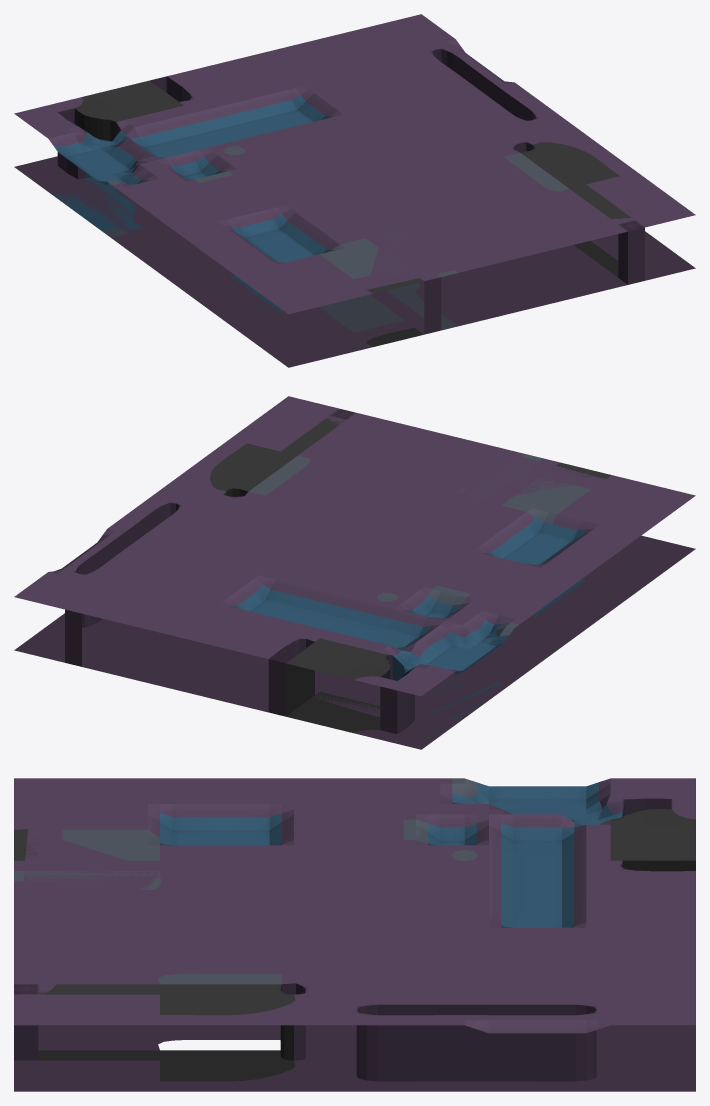
The model's file is delbld-hull-573.glb.
3 views of the same model, one above another, from view 1: azimuth 30°, elevation 25°; view 2: azimuth 150°, elevation 25°; view 3: azimuth 270°, elevation 25° (orthographic). The views are drawn at different scales.
Parts seen in each view (by area): view 1: delbld-hull-573; view 2: delbld-hull-573; view 3: delbld-hull-573.
Part boxes in pixels (left/top/right/bottom): delbld-hull-573: left=14, top=14, right=695, bottom=367; delbld-hull-573: left=14, top=396, right=695, bottom=749; delbld-hull-573: left=14, top=778, right=695, bottom=1091.
Bounding box in the file's own units: 2 × 0.25 × 2.33.
Materials: 4 (4 with a texture image).
